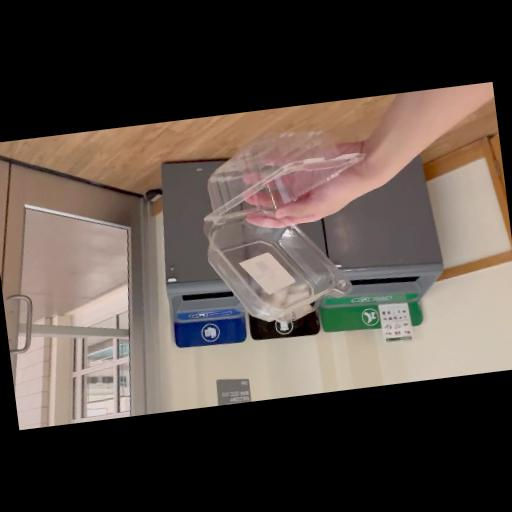small_plastic_container: (187, 123, 368, 331)
